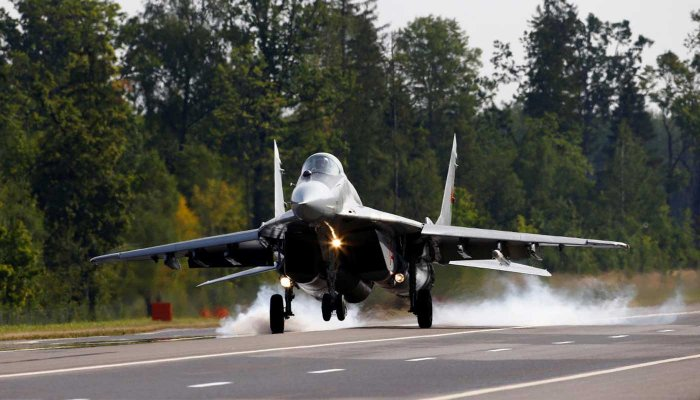Mig-29: (133, 103, 605, 357)
